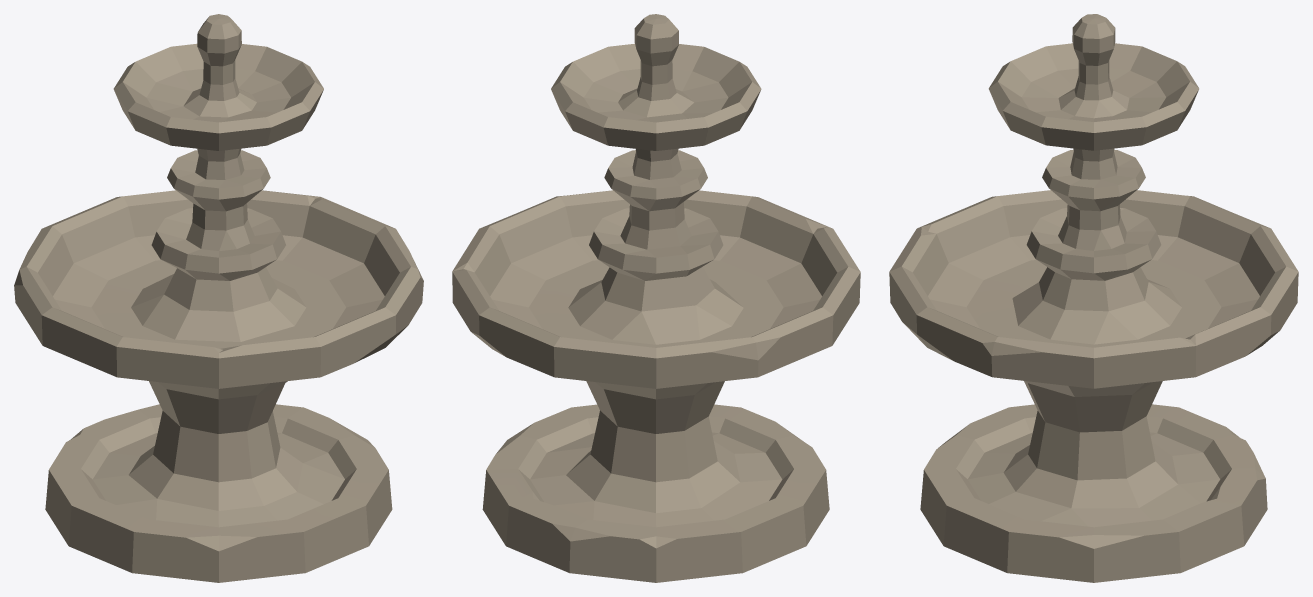
File: env_fountain.gltf
The picture shows the model from 3 angles, left to right: view 1: azimuth 30°, elevation 25°; view 2: azimuth 150°, elevation 25°; view 3: azimuth 270°, elevation 25°; orthographic projection.
Visible parts, largest first — view 1: env_fountain; view 2: env_fountain; view 3: env_fountain.
Boxes of the visible parts, <box> form: env_fountain: <box>14,14,423,582</box>; env_fountain: <box>452,14,860,582</box>; env_fountain: <box>889,14,1298,582</box>.
Bounding box in the file's own units: 1.93 × 2.56 × 1.93.
Materials: 1 (1 with a texture image).
